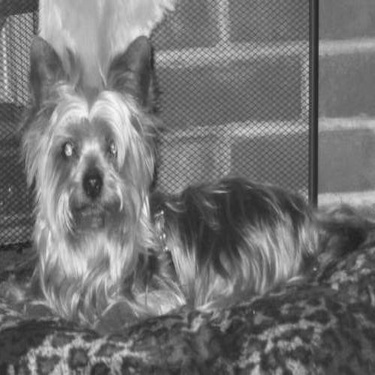dog: (8, 35, 370, 332)
